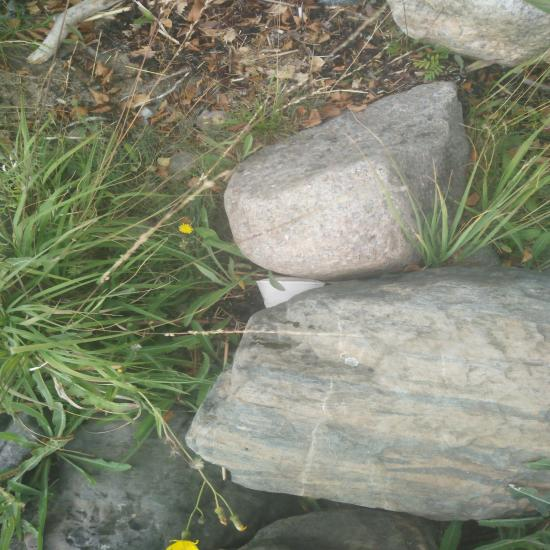Clear plastic bottle: (364, 373, 424, 391)
Plastic film: (196, 265, 248, 294), (77, 244, 124, 260), (111, 217, 141, 232)
Unlabeled litter: (17, 260, 28, 266), (257, 271, 267, 275)
